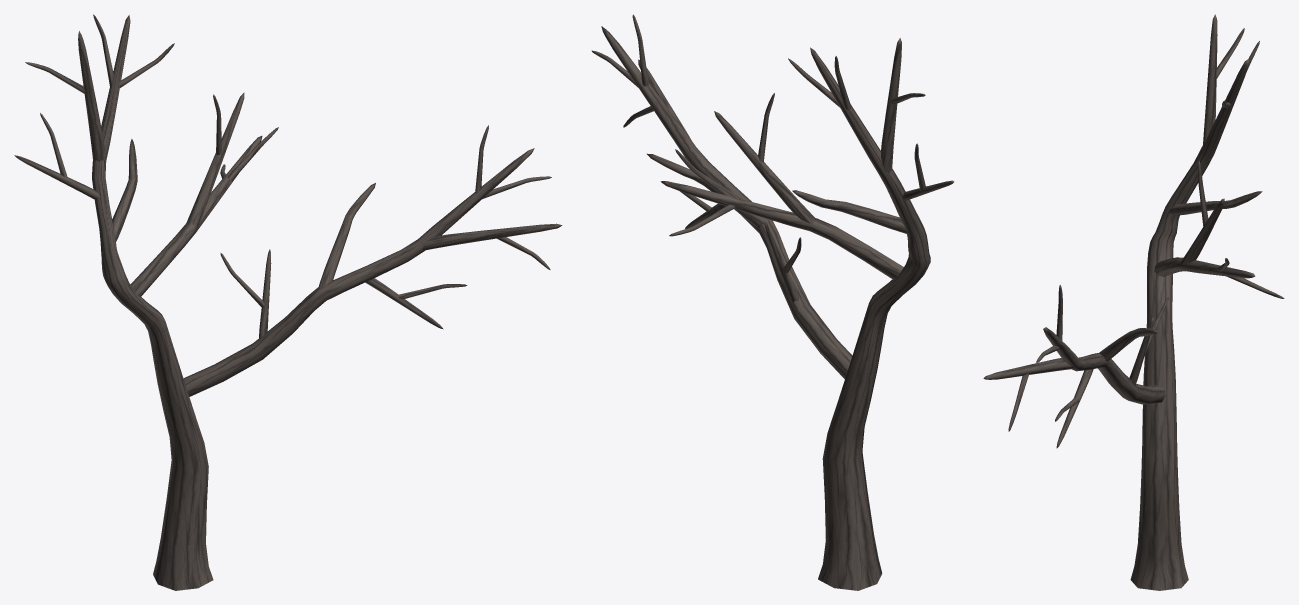
Rendered from DeadTree_6.glb.
3 renders of one model, left to right at view 1: azimuth 30°, elevation 25°; view 2: azimuth 150°, elevation 25°; view 3: azimuth 270°, elevation 25°, orthographic. The views are drawn at different scales.
Visible parts, largest first — view 1: DeadTree_6; view 2: DeadTree_6; view 3: DeadTree_6.
Boxes of the visible parts, x1,y1,x2,y2 form: DeadTree_6: [14, 14, 562, 590]; DeadTree_6: [591, 14, 954, 590]; DeadTree_6: [983, 14, 1284, 590].
Bounding box in the file's own units: 5.41 × 6.41 × 3.3.
Materials: 1 (1 with a texture image).
